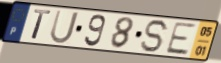8: (110, 16, 135, 51)
9: (84, 14, 107, 47)
E: (163, 21, 198, 56)
S: (139, 18, 172, 54)
T: (30, 8, 53, 41)
U: (48, 9, 80, 46)
